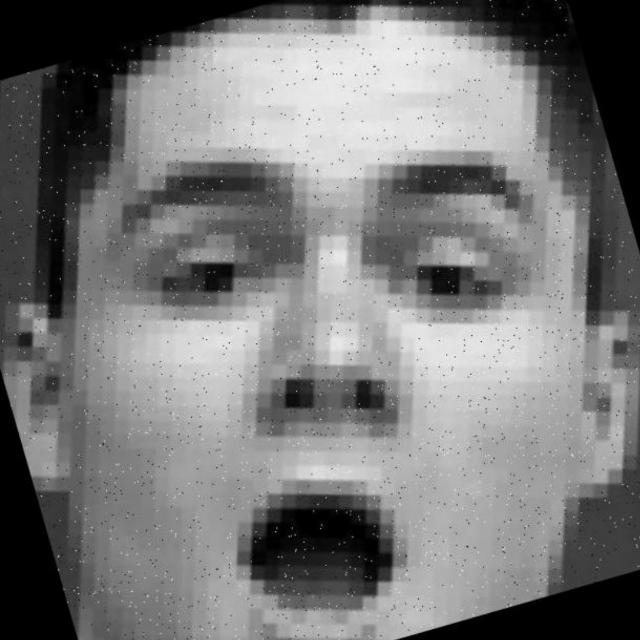Surprised: (17, 91, 608, 640)
